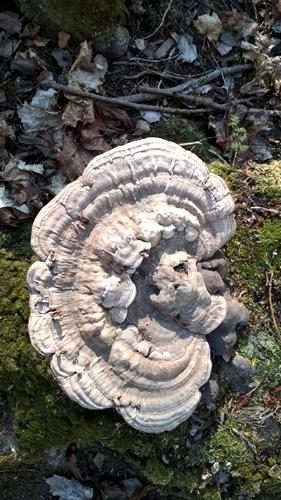Ganoderma - Fruit Body: (28, 135, 254, 441)
